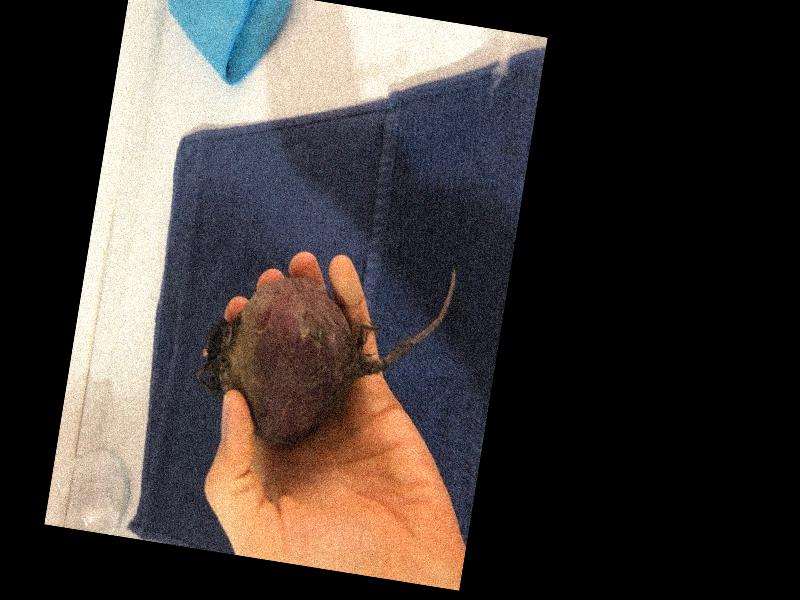Beet: (189, 228, 458, 470)
